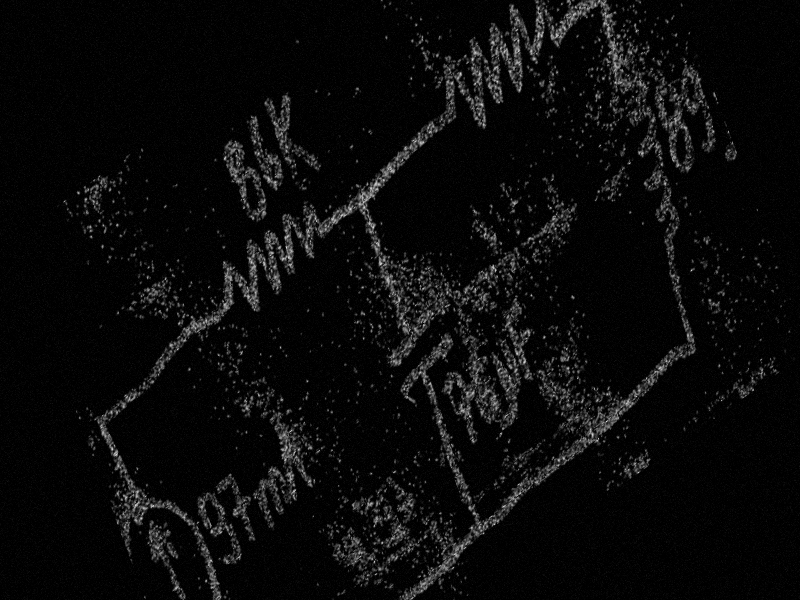4: (437, 0, 497, 19)
6: (239, 104, 291, 199), (457, 337, 506, 430)
7: (210, 458, 269, 558), (434, 358, 489, 455)
8: (642, 69, 709, 187), (216, 127, 277, 236)
9: (667, 56, 730, 166), (187, 475, 249, 581), (462, 0, 521, 3)
A: (260, 405, 318, 508)
F: (496, 292, 546, 384)
k: (259, 76, 328, 202)
m: (246, 459, 298, 533)
u: (482, 334, 535, 428), (700, 86, 739, 167)
